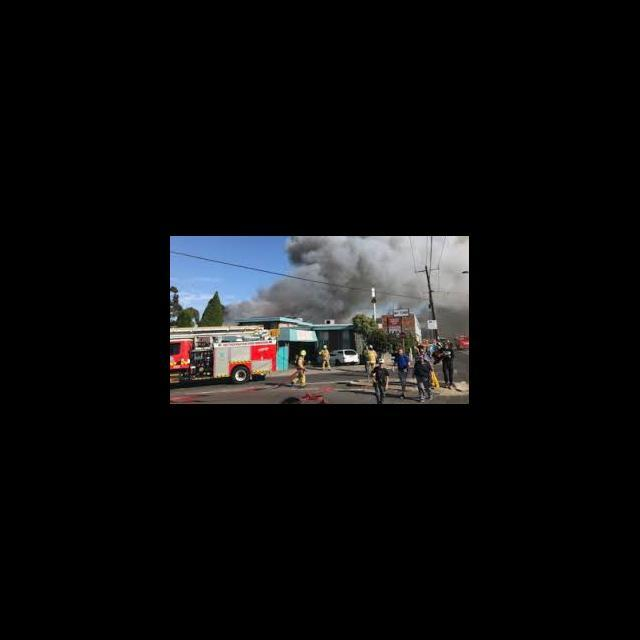Smoke: (264, 236, 468, 327)
